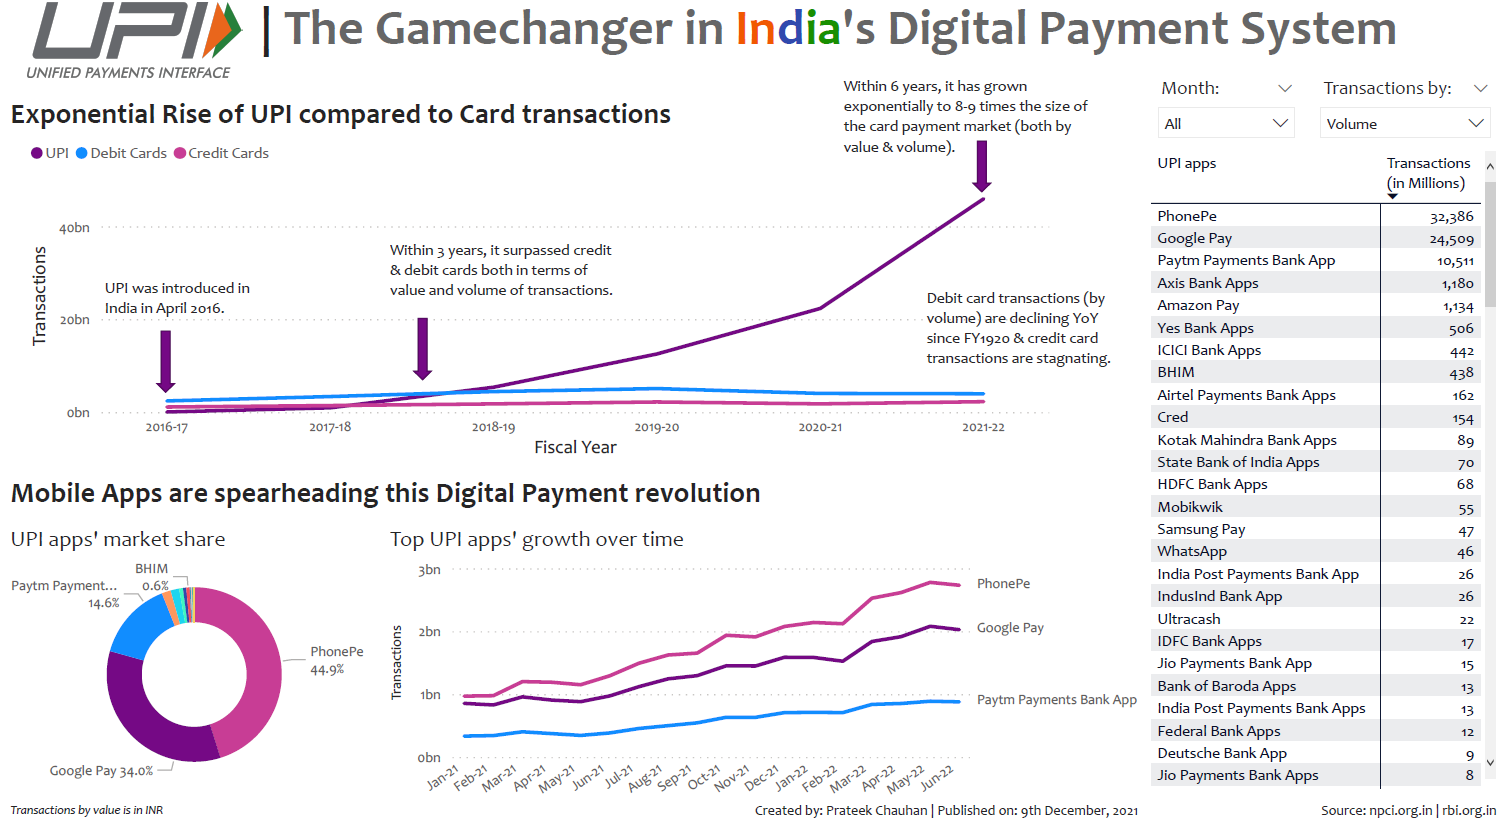

The page's visual inventory and layout, read from the dashboard file:
{"tool":"powerbi","page":{"name":"Page 1","canvas":[1280,720],"ordinal":0},"visuals":[{"type":"lineChart","title":"Top UPI apps'' growth over time","fields":{"Category":["Combined.MonthYear"],"Series":["Combined.UPI Banks"],"Y":["Sum(Combined.Data)"]},"box":[330.7,463,646.8,249],"z":1000},{"type":"donutChart","title":"UPI apps'' market share","fields":{"Category":["Combined.UPI Banks"],"Y":["Combined.Data in Millions"]},"box":[8.8,463,321.9,231.5],"z":2000},{"type":"lineChart","title":"Rise in UPI transactions against Cards","fields":{"Category":["Merged-UPI_Cards.Fiscal Year"],"Series":["Merged-UPI_Cards.Mode of payment"],"Y":["Sum(Merged-UPI_Cards.Data)"]},"box":[25.3,127.8,875.4,284],"z":3000},{"type":"image","box":[18.5,14.6,202.3,73.9],"z":4000},{"type":"textbox","box":[88.5,248.4,143,46.7],"z":5000},{"type":"slicer","fields":{"Values":["Combined.Vol or Val"]},"box":[1114.7,76.8,165.3,60.3],"z":6000},{"type":"pivotTable","fields":{"Rows":["Combined.UPI Banks"],"Values":["Combined.Data in Millions"]},"box":[977.5,141,302.5,550.5],"z":7000},{"type":"textbox","box":[220.8,8.8,989.2,68.1],"z":8000},{"type":"textbox","box":[8.7,690.6,158.2,28.9],"z":9000},{"type":"slicer","fields":{"Values":["Combined.MonthYear"]},"box":[977.5,76.8,137.1,64.2],"z":10000},{"type":"textbox","box":[330.7,215.9,203.3,81.7],"z":11000},{"type":"textbox","box":[715.9,76.8,217.9,81.7],"z":12000},{"type":"shape","box":[137.1,297.6,16.5,52.5],"z":13000},{"type":"shape","box":[355,287.3,16.5,52.5],"z":14000},{"type":"textbox","box":[785.9,256.8,177,82.7],"z":15000},{"type":"textbox","box":[8.8,415.3,769.4,47.7],"z":16000},{"type":"textbox","box":[8.7,93.6,645.3,47.3],"z":17000},{"type":"shape","box":[829.7,137.1,16.5,43.8],"z":18000},{"type":"textbox","box":[640.5,691.6,356.9,28],"z":19000},{"type":"textbox","box":[1088,691.6,192,28],"z":20000}]}

Visuals, with their boxes in screenshot pixels (x1, y1, x2, y2), scaled from the page's 1280x720 canvas onto the 1504x827 screenshot:
"Top UPI apps'' growth over time" lineChart: 389, 532, 1149, 818
"UPI apps'' market share" donutChart: 10, 532, 389, 798
"Rise in UPI transactions against Cards" lineChart: 30, 147, 1058, 473
image: 22, 17, 259, 102
textbox: 104, 285, 272, 339
slicer - Combined.Vol or Val: 1310, 88, 1503, 157
pivotTable - Combined.UPI Banks x Combined.Data in Millions: 1149, 162, 1503, 794
textbox: 259, 10, 1422, 88
textbox: 10, 793, 196, 826
slicer - Combined.MonthYear: 1149, 88, 1310, 162
textbox: 389, 248, 627, 342
textbox: 841, 88, 1097, 182
shape: 161, 342, 180, 402
shape: 417, 330, 437, 390
textbox: 923, 295, 1131, 390
textbox: 10, 477, 914, 532
textbox: 10, 108, 768, 162
shape: 975, 157, 994, 208
textbox: 753, 794, 1172, 826
textbox: 1278, 794, 1503, 826
